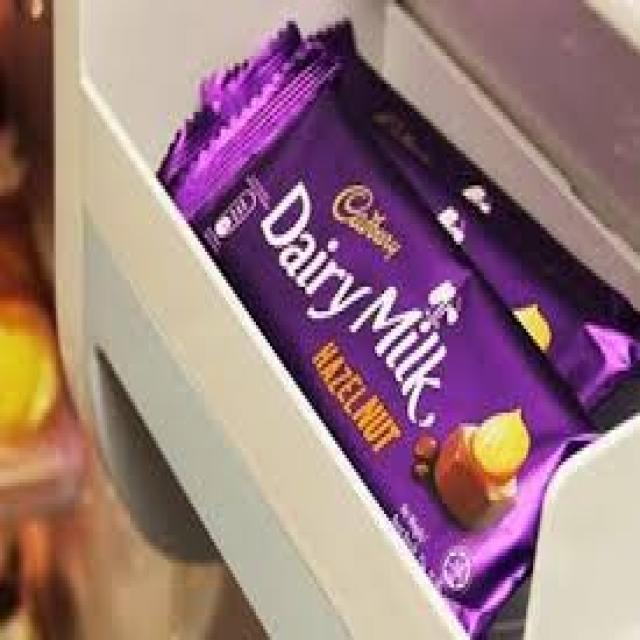cadbury: (160, 49, 595, 593)
